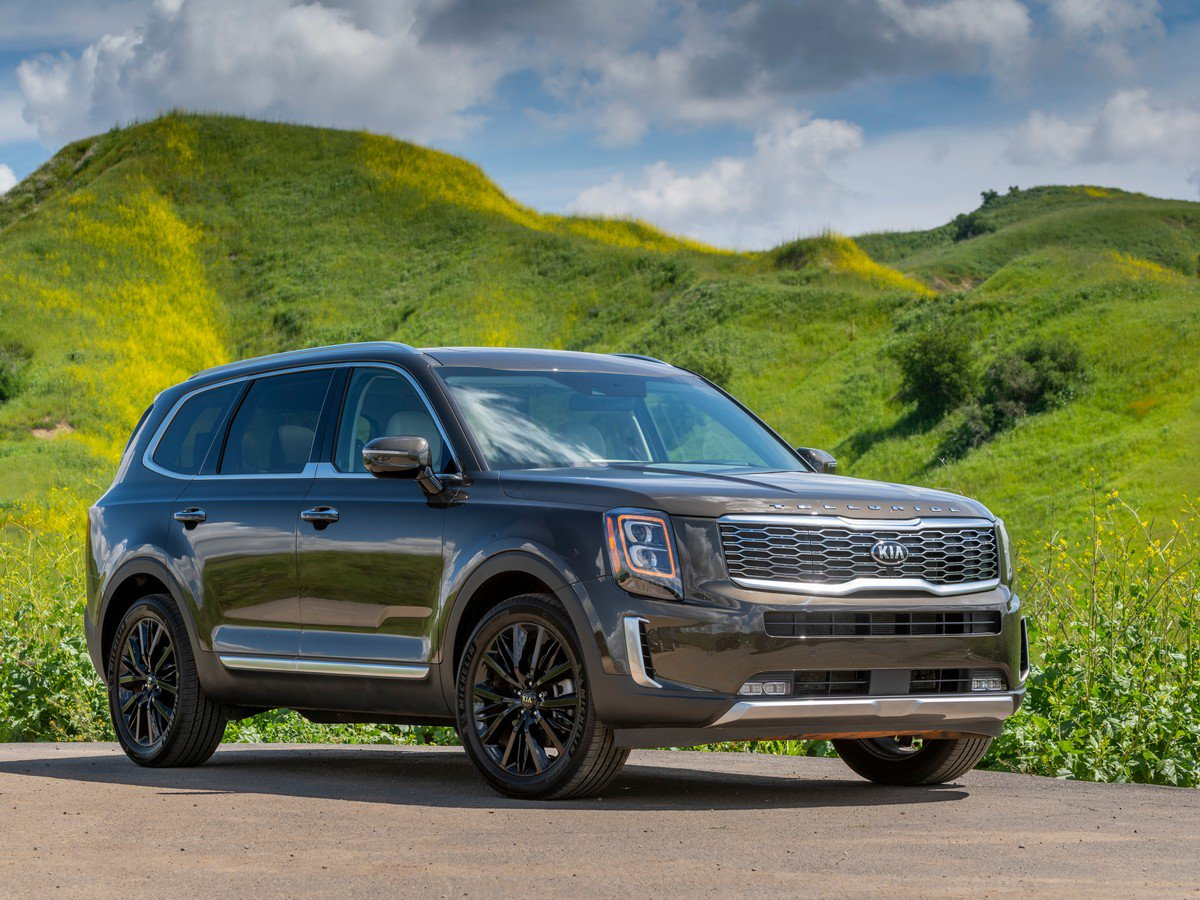car: (86, 355, 1025, 780)
